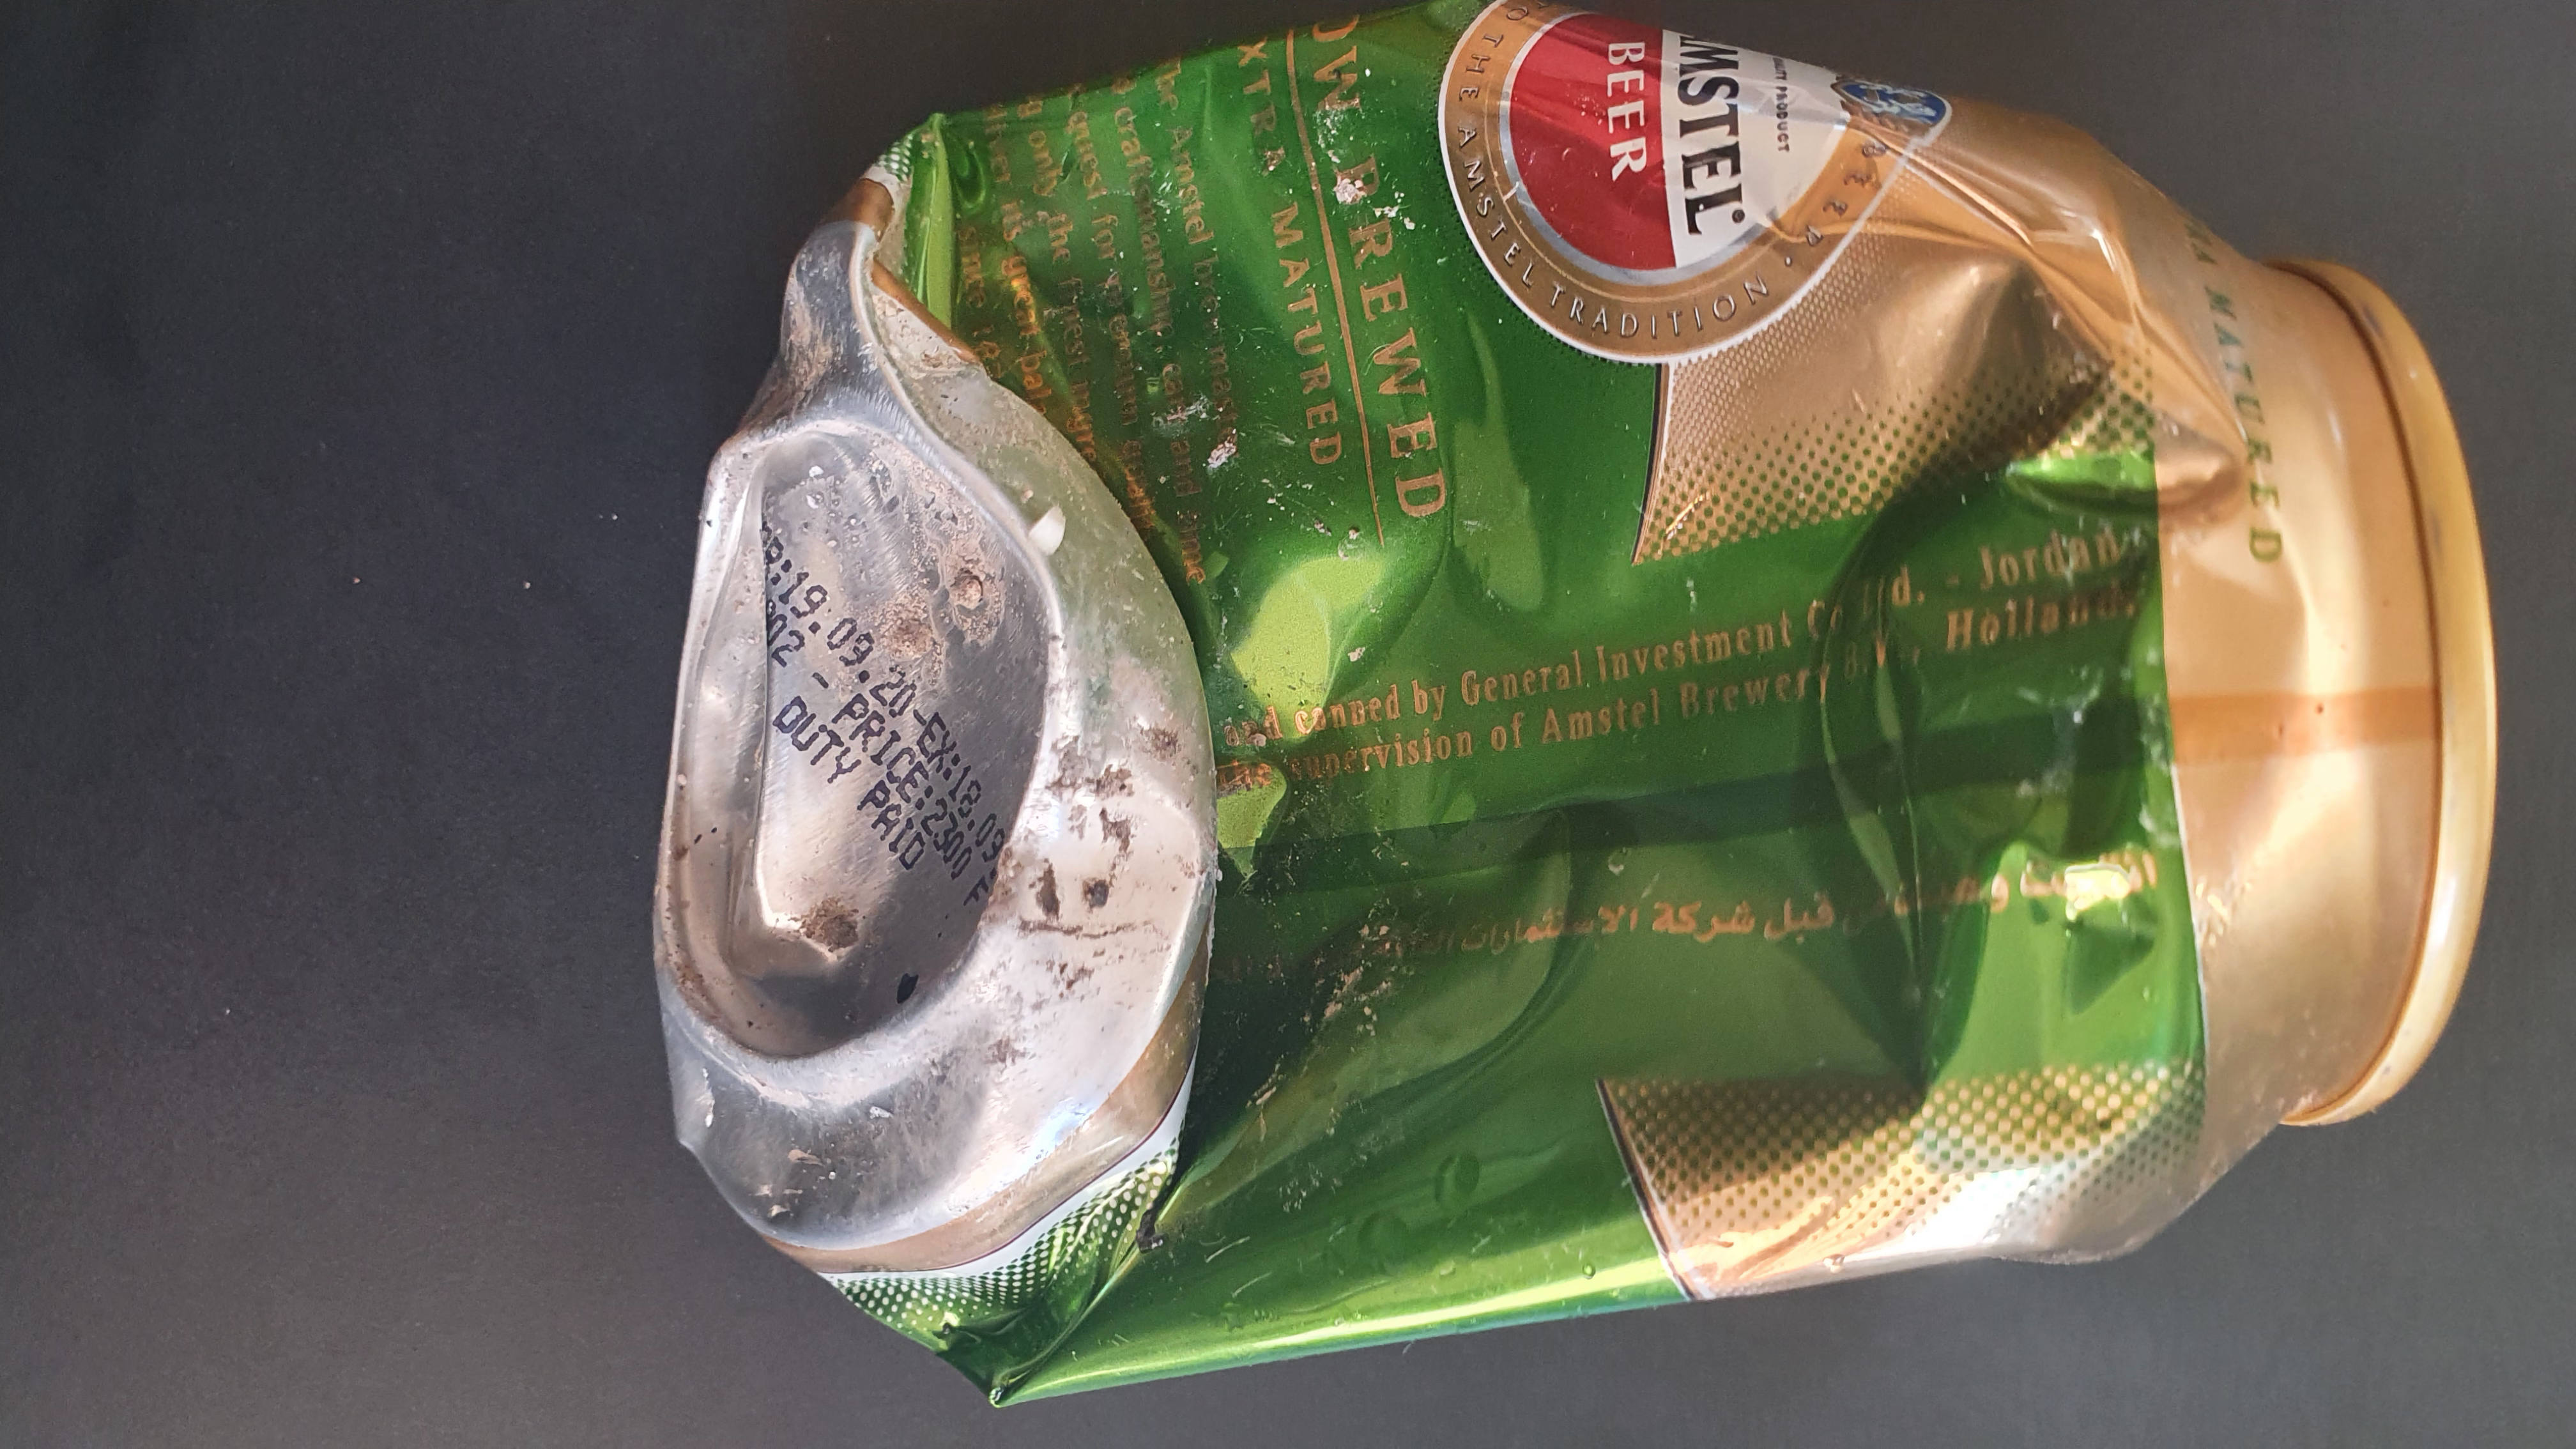metal: (626, 5, 2516, 1449)
